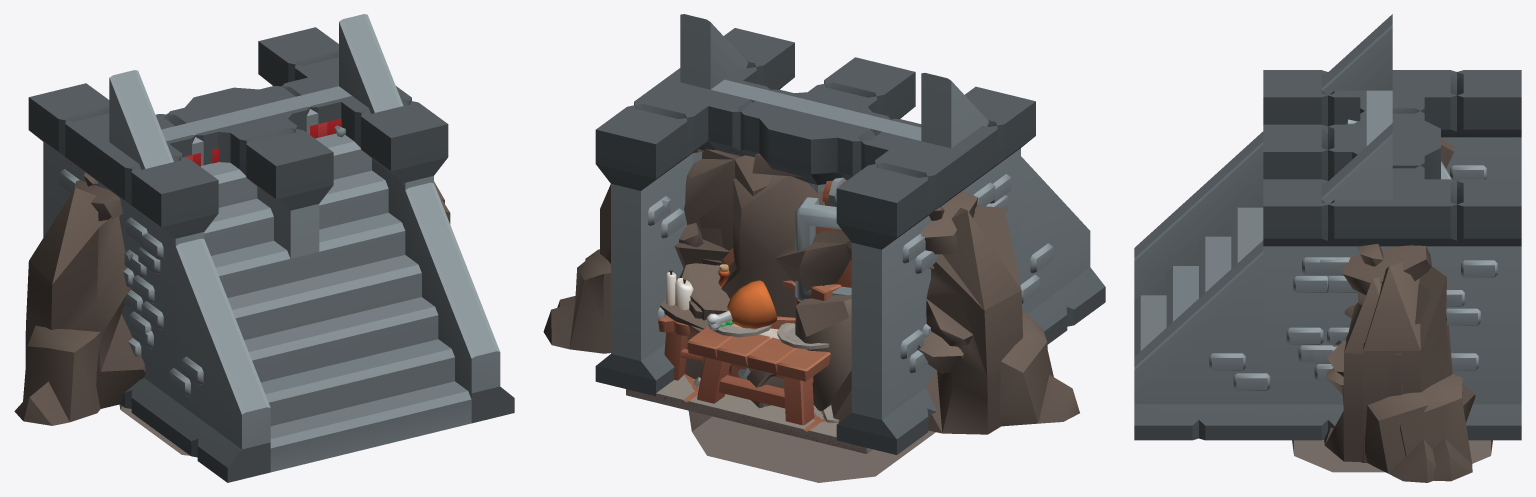
Rendered from dungeon.glb.
3 views of the same model, side by side, from view 1: azimuth 30°, elevation 25°; view 2: azimuth 150°, elevation 25°; view 3: azimuth 270°, elevation 25° (orthographic). The views are drawn at different scales.
Parts seen in each view (by area): view 1: stairs, wall_doorway_sides, rubble_large, wall_corner, wall_arched, wall_pillar, banner_triple_red; view 2: wall_doorway_sides, rubble_large, stairs, rubble_half, table_long_decorated_A, floor_tile_big_grate, wall_corner, wall_pillar, floor_tile_large_rocks, box_stacked, wall_shelves, bed_decorated (+3 smaller); view 3: wall_doorway_sides, stairs, rubble_half, rubble_large, wall_corner, floor_tile_big_grate, wall_pillar.
Part boxes in pixels (left/top/right/bottom): stairs: left=109, top=14, right=514, bottom=482; wall_doorway_sides: left=28, top=27, right=448, bottom=433; rubble_large: left=14, top=172, right=450, bottom=425; wall_corner: left=192, top=119, right=333, bottom=258; wall_arched: left=164, top=86, right=341, bottom=165; wall_pillar: left=174, top=87, right=292, bottom=162; banner_triple_red: left=183, top=118, right=345, bottom=166; wall_doorway_sides: left=595, top=28, right=1035, bottom=454; rubble_large: left=557, top=153, right=1079, bottom=434; stairs: left=680, top=14, right=1105, bottom=344; rubble_half: left=543, top=149, right=772, bottom=379; table_long_decorated_A: left=687, top=280, right=830, bottom=425; floor_tile_big_grate: left=626, top=389, right=935, bottom=482; wall_corner: left=804, top=57, right=915, bottom=180; wall_pillar: left=759, top=91, right=873, bottom=193; floor_tile_large_rocks: left=626, top=375, right=871, bottom=452; box_stacked: left=716, top=177, right=851, bottom=408; wall_shelves: left=708, top=106, right=890, bottom=177; bed_decorated: left=658, top=264, right=813, bottom=381; wall_doorway_sides: left=1263, top=70, right=1521, bottom=440; stairs: left=1134, top=14, right=1392, bottom=440; rubble_half: left=1342, top=244, right=1475, bottom=481; rubble_large: left=1324, top=138, right=1454, bottom=482; wall_corner: left=1263, top=108, right=1361, bottom=180; floor_tile_big_grate: left=1292, top=440, right=1492, bottom=472; wall_pillar: left=1344, top=121, right=1440, bottom=179.
Size of the model in its own units: 8.13 by 6.1 by 6.
Materials: 1 (1 with a texture image).
